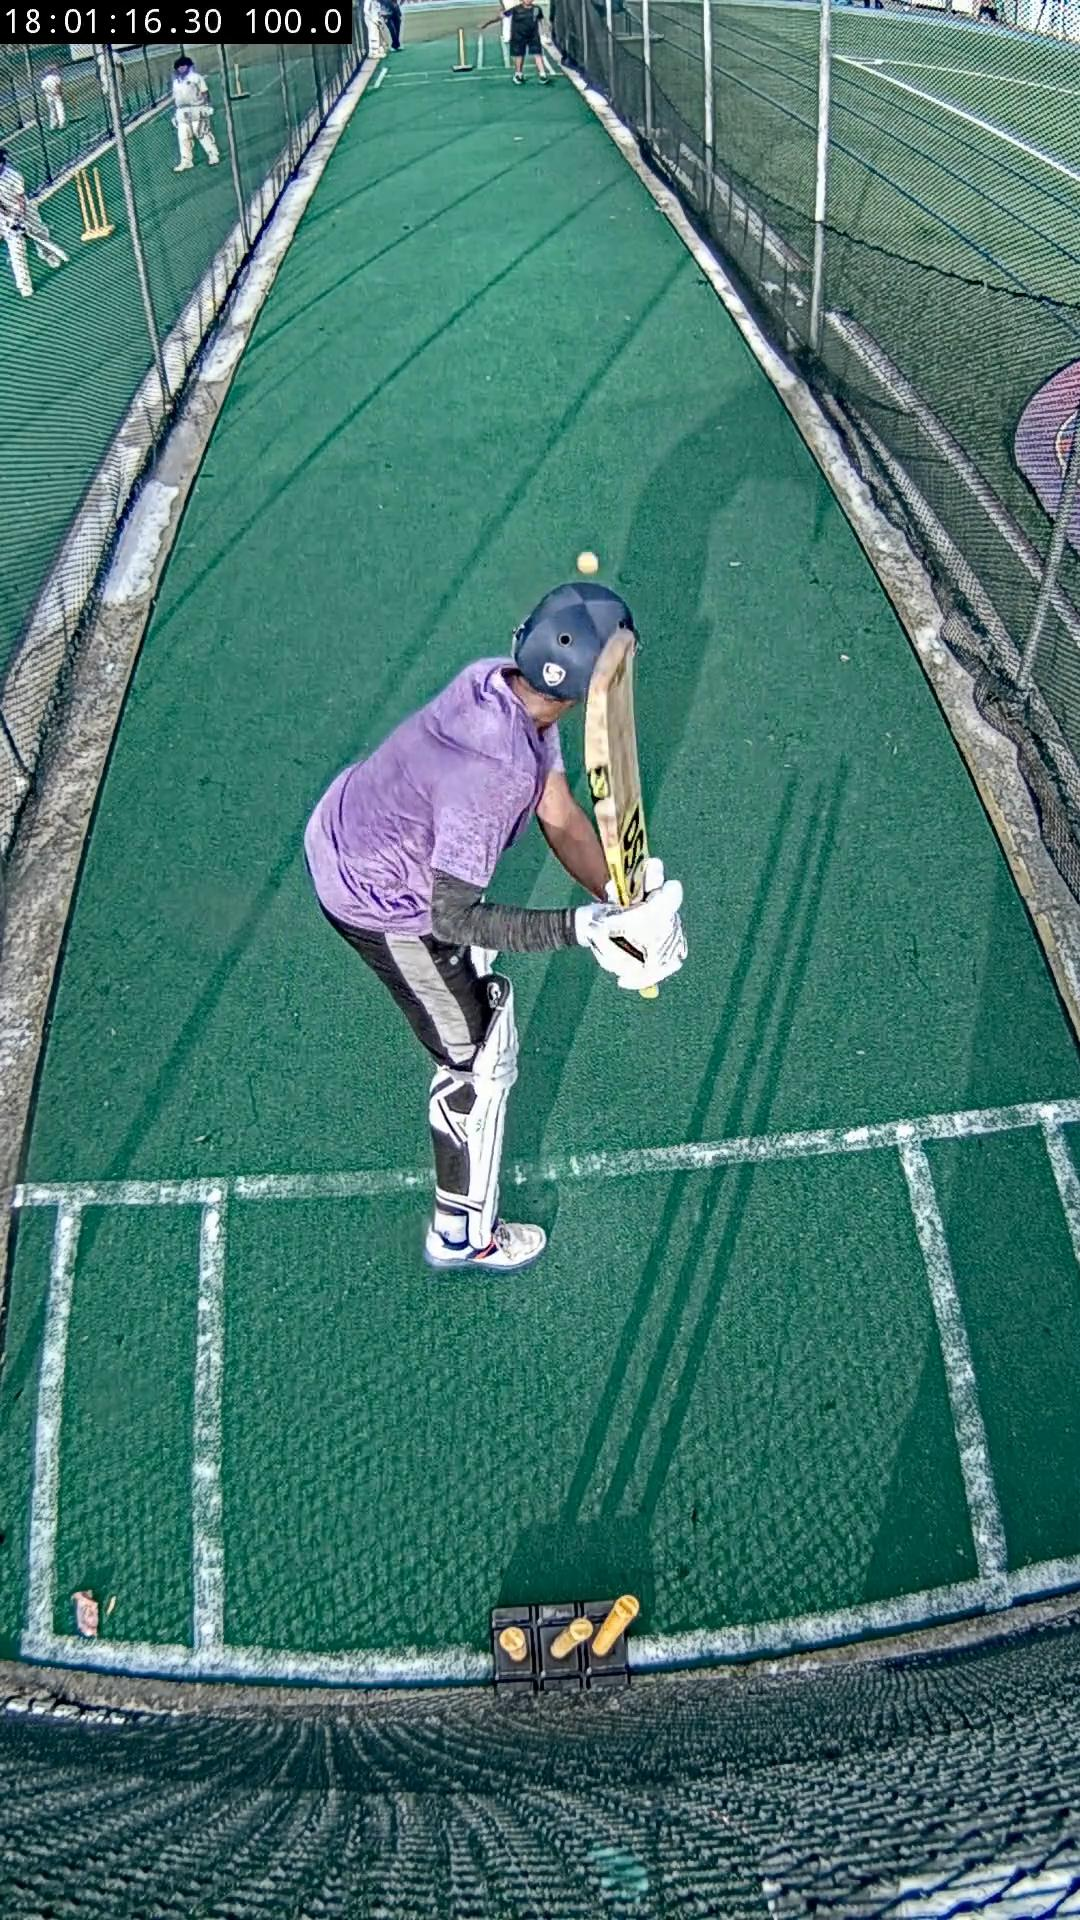ball: (578, 551, 600, 572)
bat: (585, 630, 649, 906)
gloves: (574, 858, 686, 990)
helmet: (514, 582, 634, 702)
pads: (462, 978, 517, 1249)
stumps: (492, 1594, 641, 1692)
